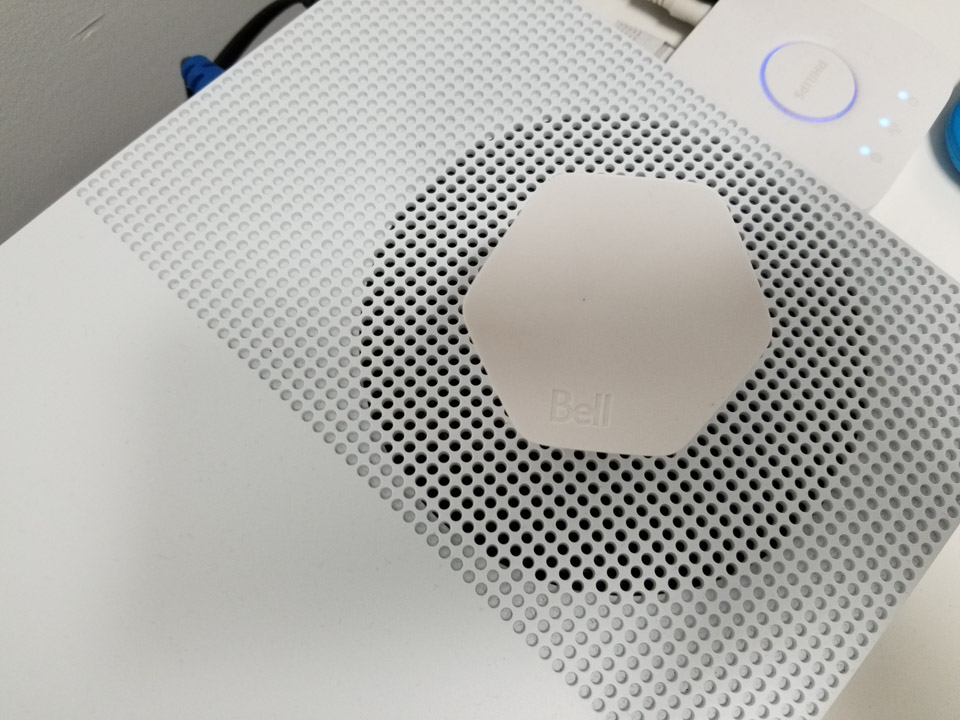pod: (457, 169, 779, 462)
